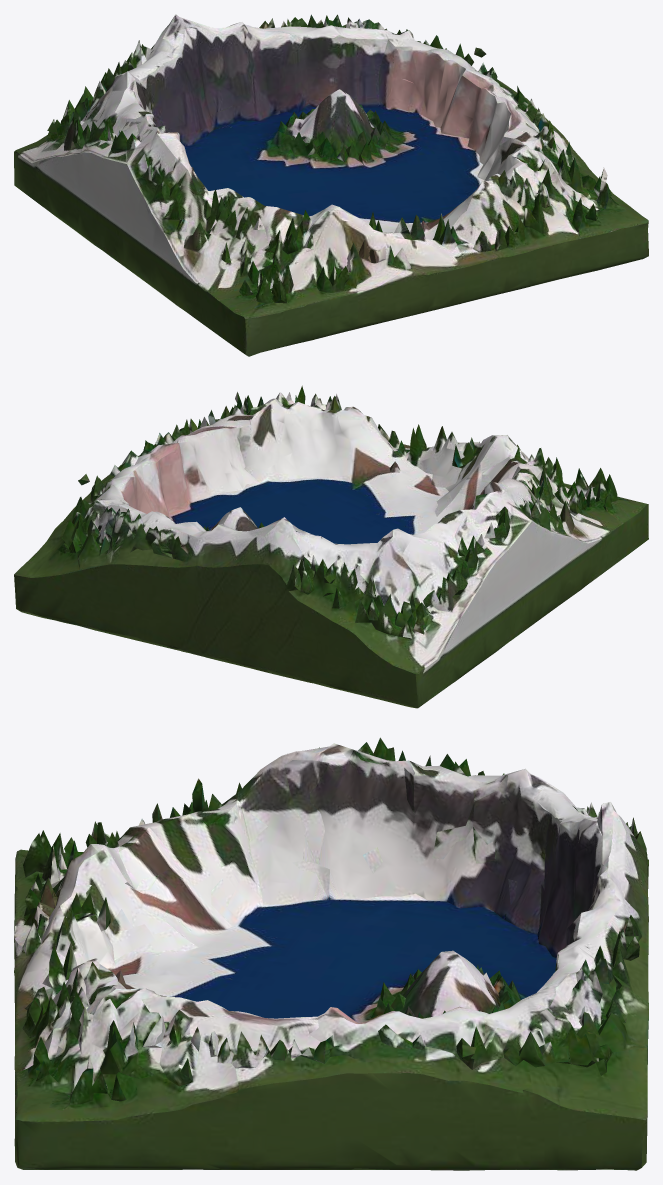
File: crater-lake.glb
The picture shows the model from 3 angles, top to bottom: view 1: azimuth 30°, elevation 25°; view 2: azimuth 150°, elevation 25°; view 3: azimuth 270°, elevation 25°; orthographic projection. The views are drawn at different scales.
Visible parts, largest first — view 1: logan-textured.obj; view 2: logan-textured.obj; view 3: logan-textured.obj.
Part boxes in pixels (x1,y1,x2,y2): logan-textured.obj: (14, 14, 648, 356); logan-textured.obj: (14, 385, 648, 708); logan-textured.obj: (14, 737, 648, 1170).
Bounding box in the file's own units: 1 × 0.3497 × 0.9956.
1 material, 1 textured.
